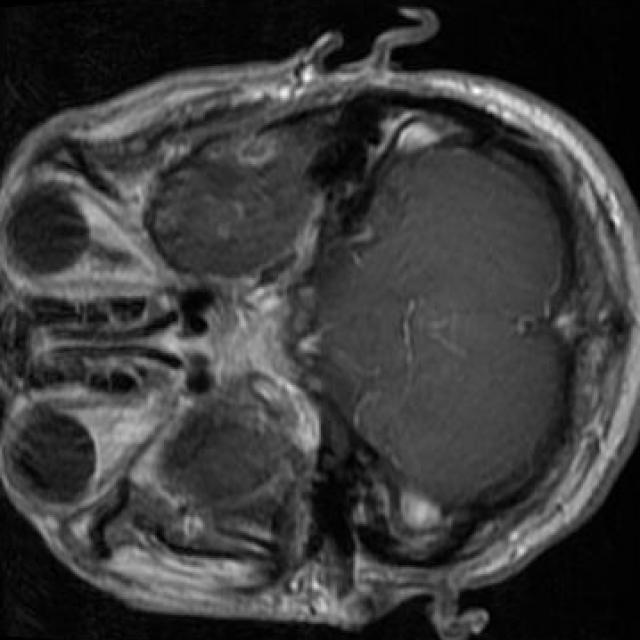glioma: (198, 137, 280, 168)
